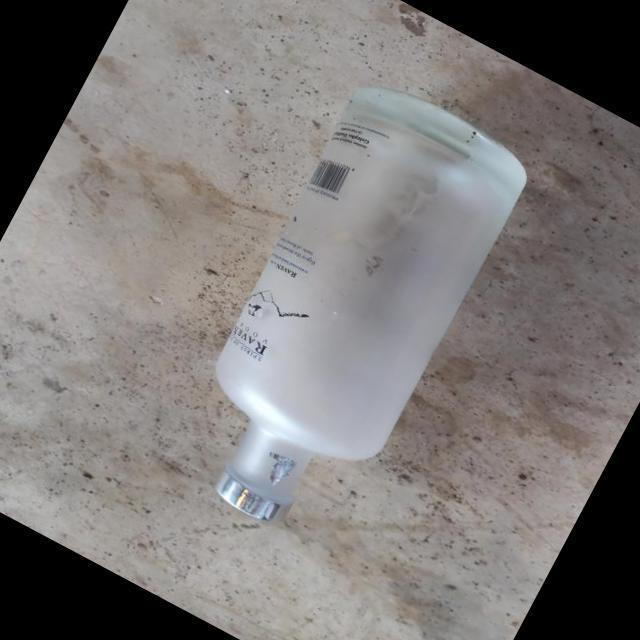Glass: (215, 88, 528, 526)
